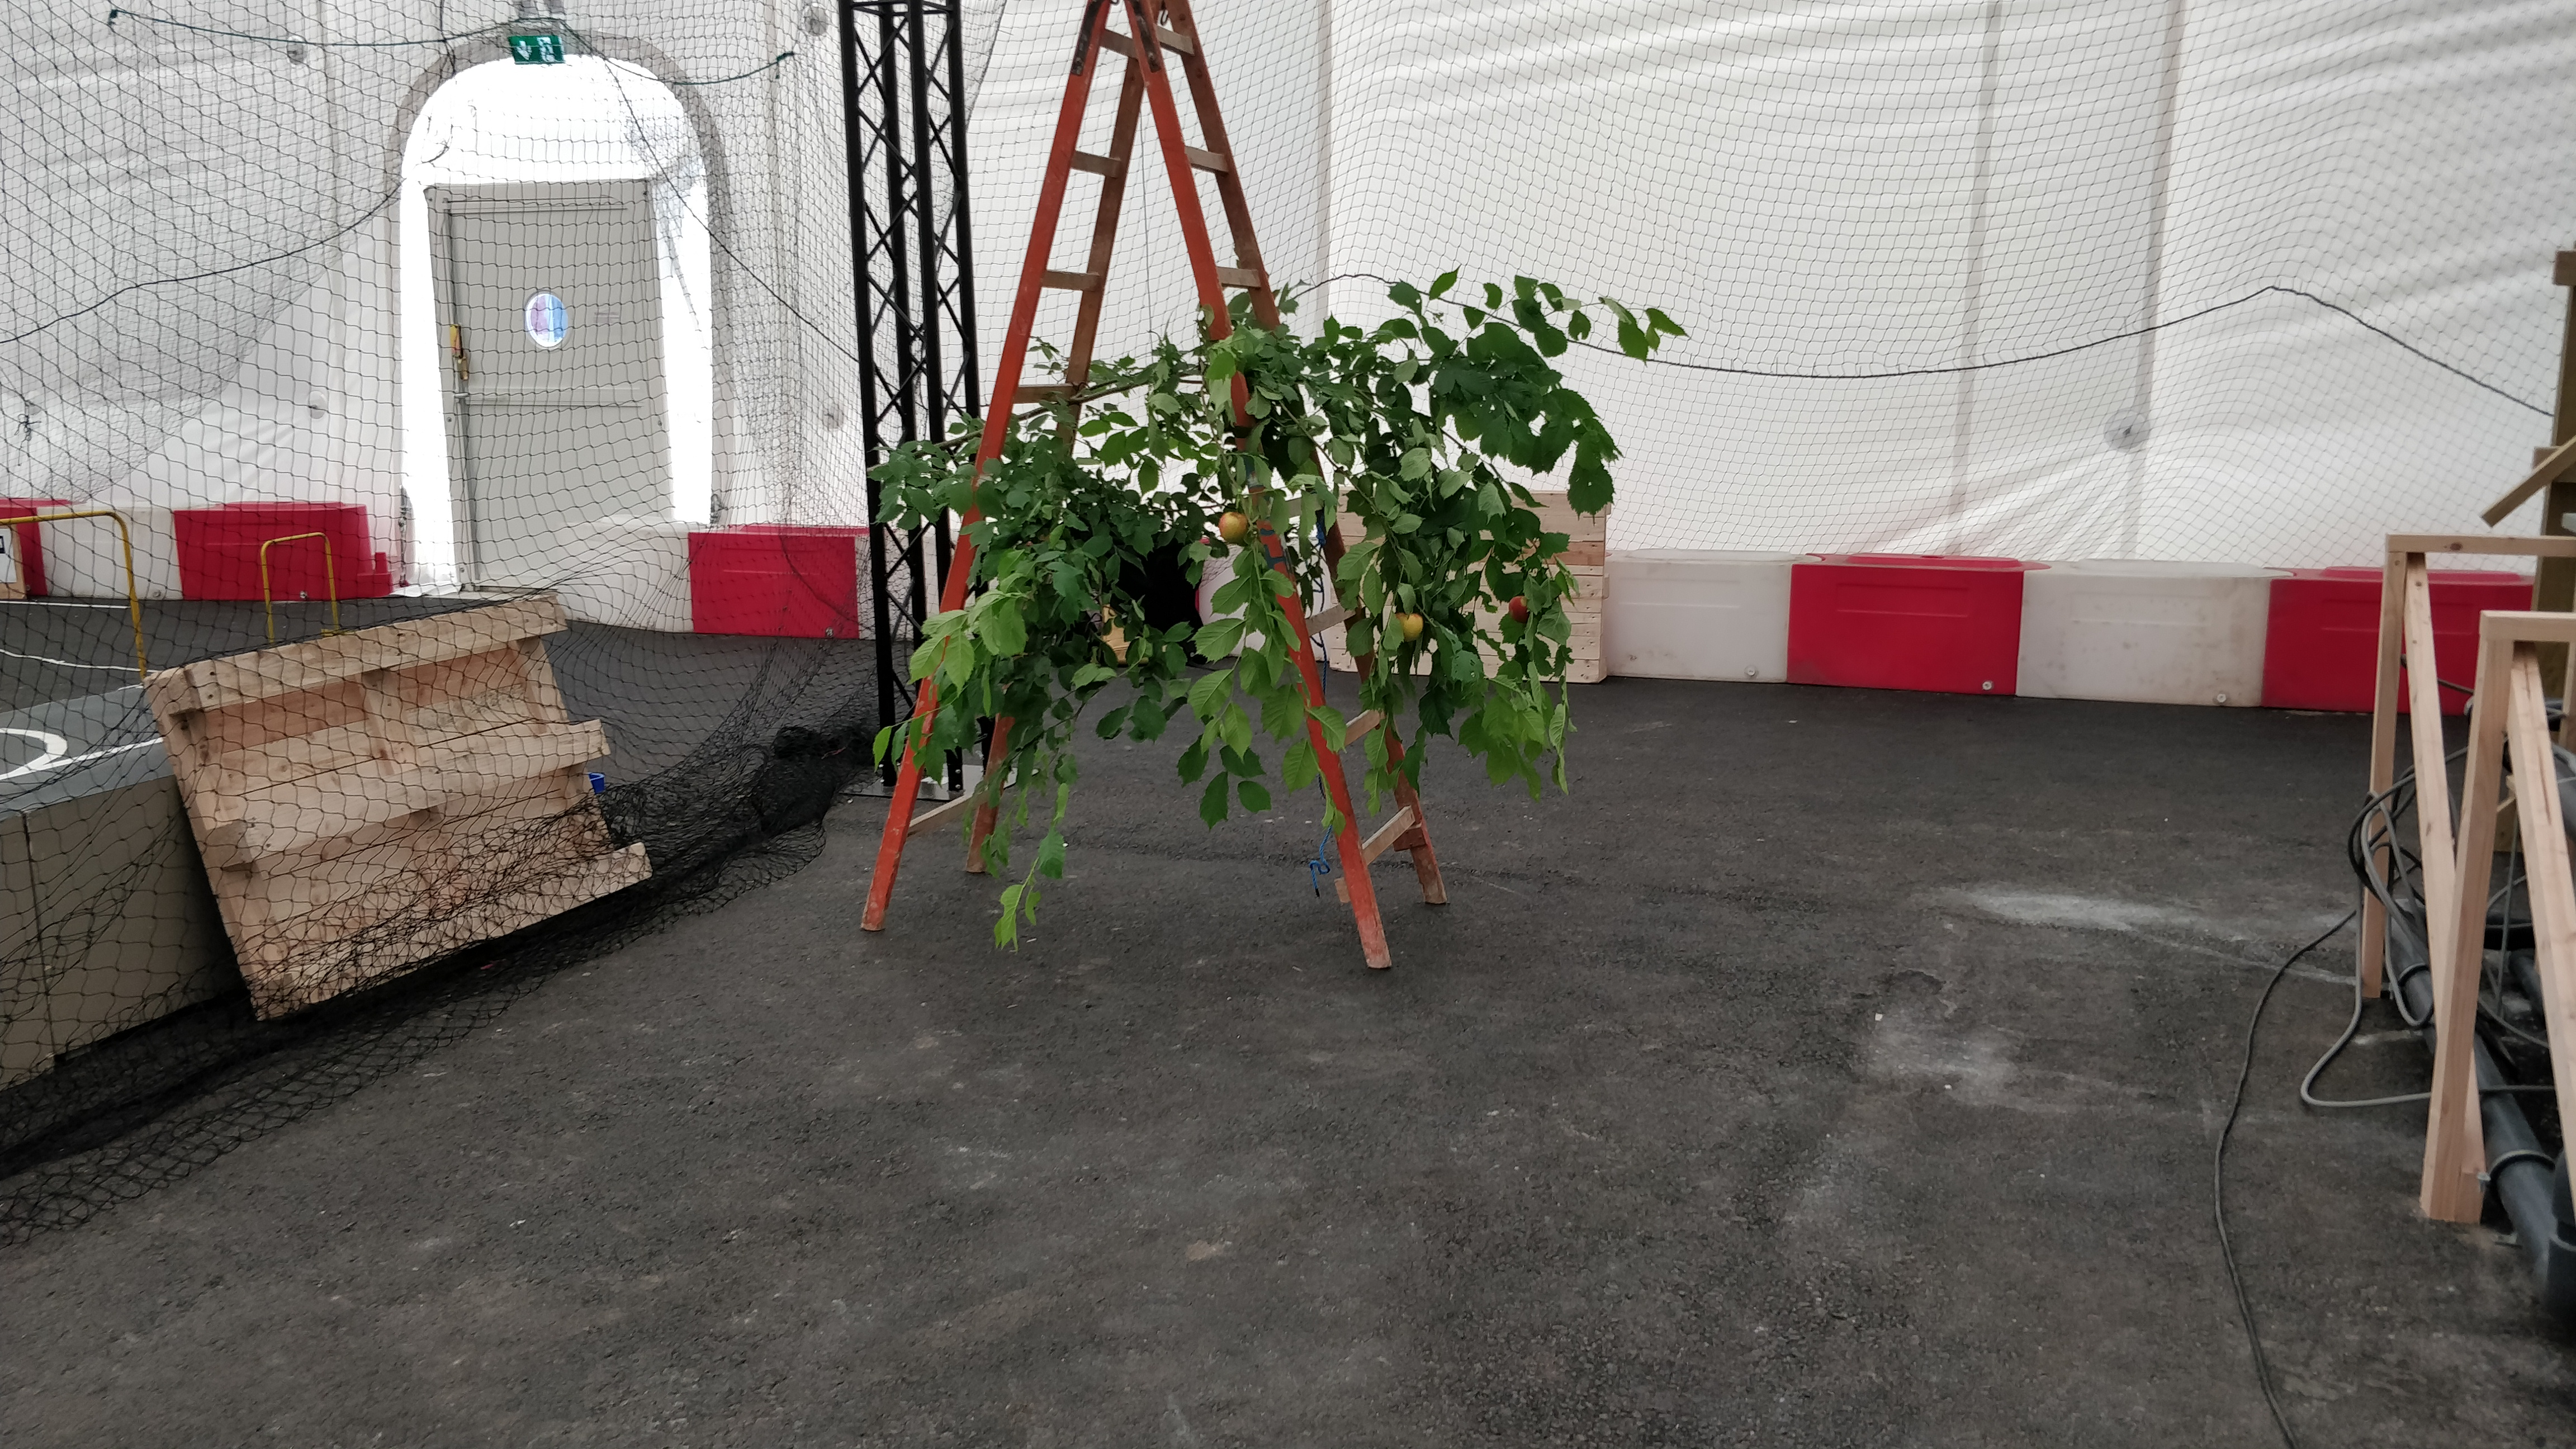apple: (1217, 513, 1249, 543), (1394, 614, 1422, 640), (1509, 596, 1530, 623)
